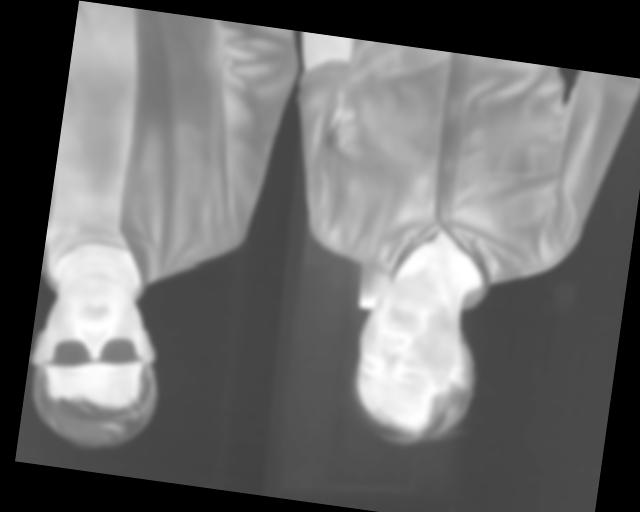face: (19, 267, 173, 457), (342, 271, 488, 455)
